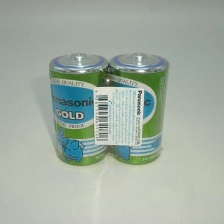battery: (103, 48, 171, 167), (45, 48, 112, 167)
